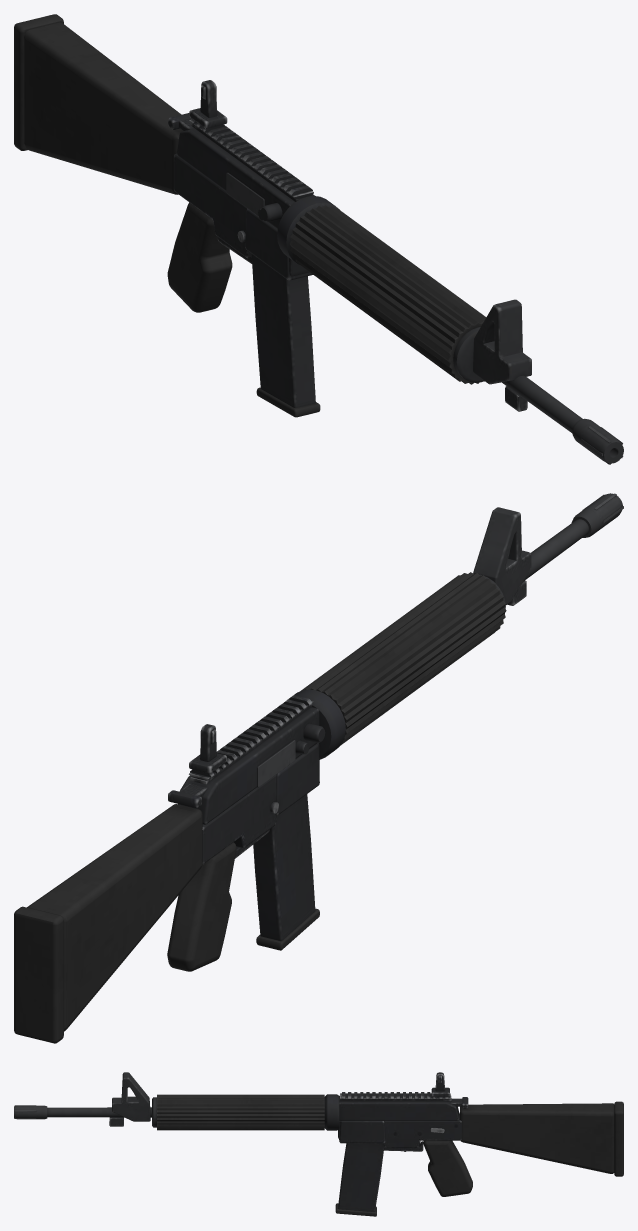
The picture shows the model from 3 angles, top to bottom: view 1: azimuth 30°, elevation 25°; view 2: azimuth 150°, elevation 25°; view 3: azimuth 270°, elevation 25°; orthographic projection. The views are drawn at different scales.
Visible parts, largest first — view 1: body, mag_mesh; view 2: body, mag_mesh; view 3: body, mag_mesh.
Part boxes in pixels (<box>): body: <box>14,14,623,464</box>; mag_mesh: <box>251,254,320,417</box>; body: <box>14,493,623,1043</box>; mag_mesh: <box>253,794,319,950</box>; body: <box>14,1072,623,1196</box>; mag_mesh: <box>335,1143,384,1216</box>.
Bounding box in the file's own units: 0.06 × 0.2547 × 1.
Materials: 1 (1 with a texture image).
